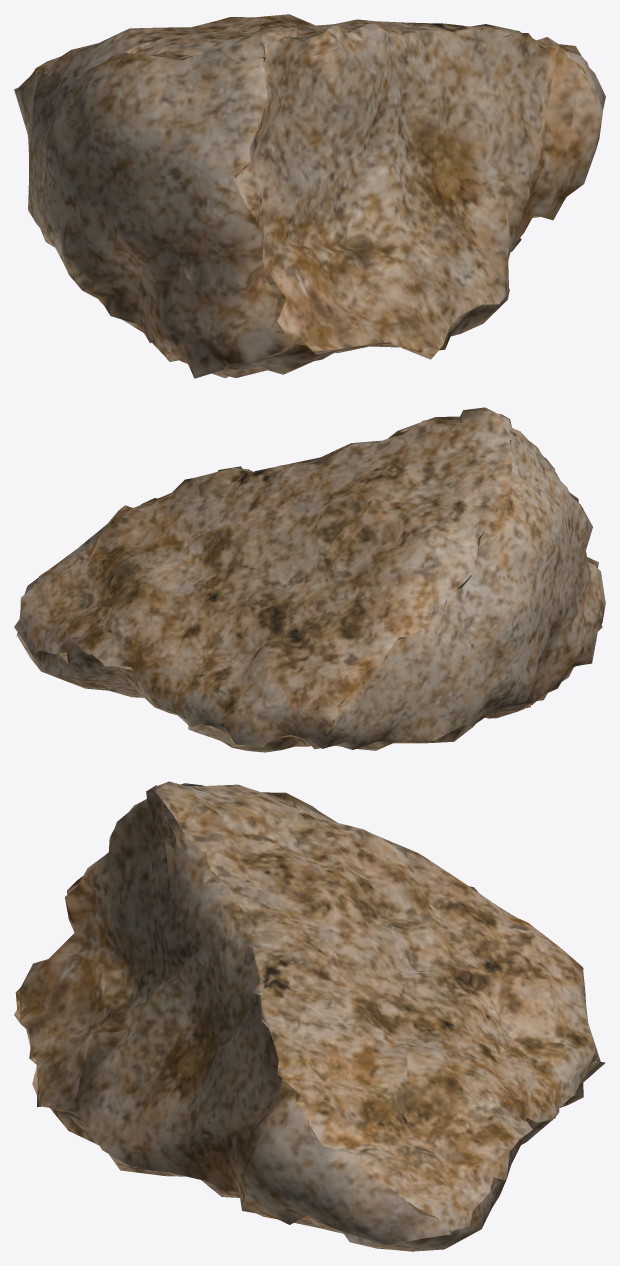
The model's file is namaqualand_stones_01_2.gltf.
3 views of the same model, one above another, from view 1: azimuth 30°, elevation 25°; view 2: azimuth 150°, elevation 25°; view 3: azimuth 270°, elevation 25° (orthographic). The views are drawn at different scales.
Parts seen in each view (by area): view 1: namaqualand_stones_01_c; view 2: namaqualand_stones_01_c; view 3: namaqualand_stones_01_c.
Boxes of the visible parts, left/top/right/bottom form: namaqualand_stones_01_c: left=14, top=14, right=605, bottom=378; namaqualand_stones_01_c: left=14, top=407, right=605, bottom=752; namaqualand_stones_01_c: left=14, top=781, right=605, bottom=1251.
Bounding box in the file's own units: 0.1029 × 0.0565 × 0.0985.
1 material, 1 textured.
